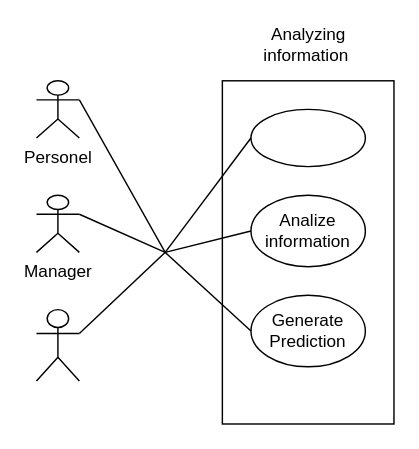
Image size: 419x449. Some labels were removed from this diagram. The shapes that lost their labels are listed below. From the top down, each one's box as (x1, y1, x2, y2) in pixels, then its label:
(250, 108, 365, 167): Review Entered Data
(35, 308, 79, 381): owner
